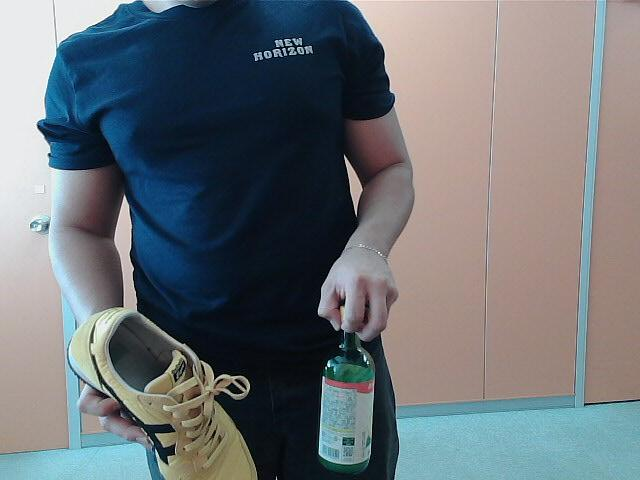Lemon_sapporo: (311, 298, 380, 479)
Shoes: (65, 301, 271, 480)
